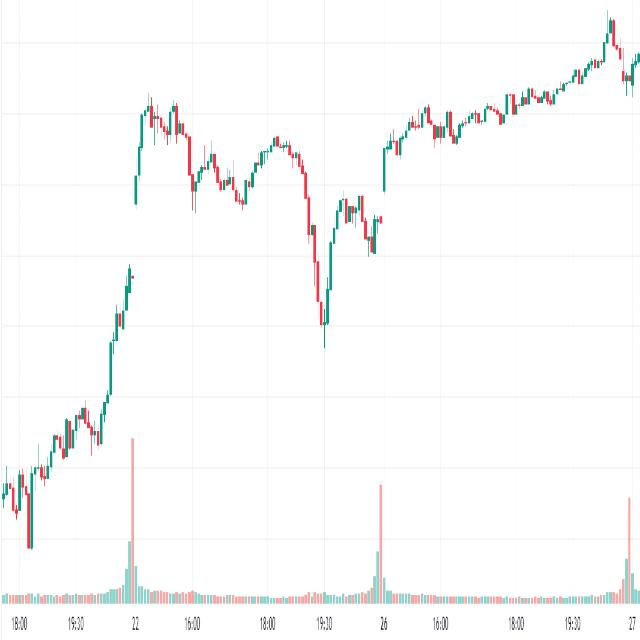Descending-Triangle: (131, 46, 276, 214)
